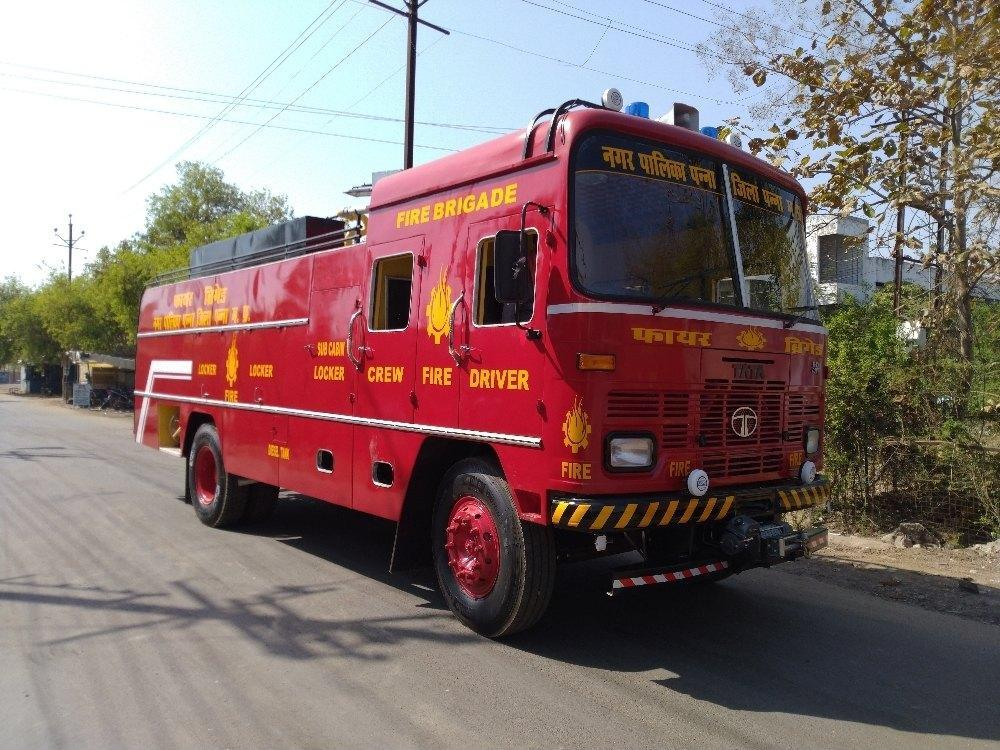Fire-engine: (135, 91, 832, 637), (388, 167, 529, 240), (415, 251, 475, 352), (546, 389, 604, 457), (632, 320, 716, 351), (731, 319, 777, 356), (624, 89, 658, 123), (421, 366, 460, 394), (560, 461, 597, 486), (666, 456, 698, 479)
